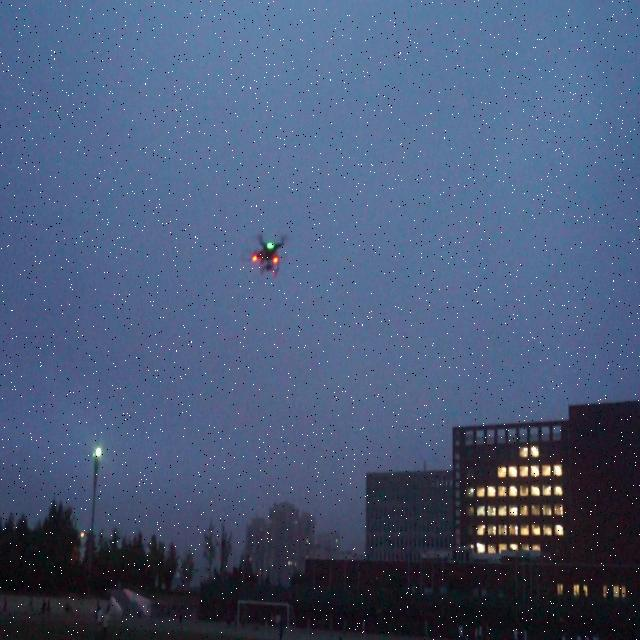UAV: (242, 234, 288, 277)
